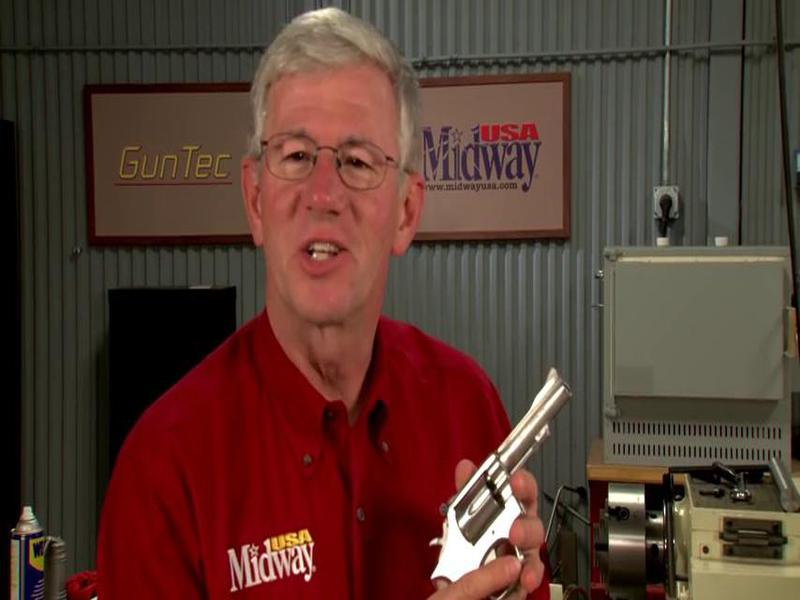Revolver: (418, 361, 586, 600)
